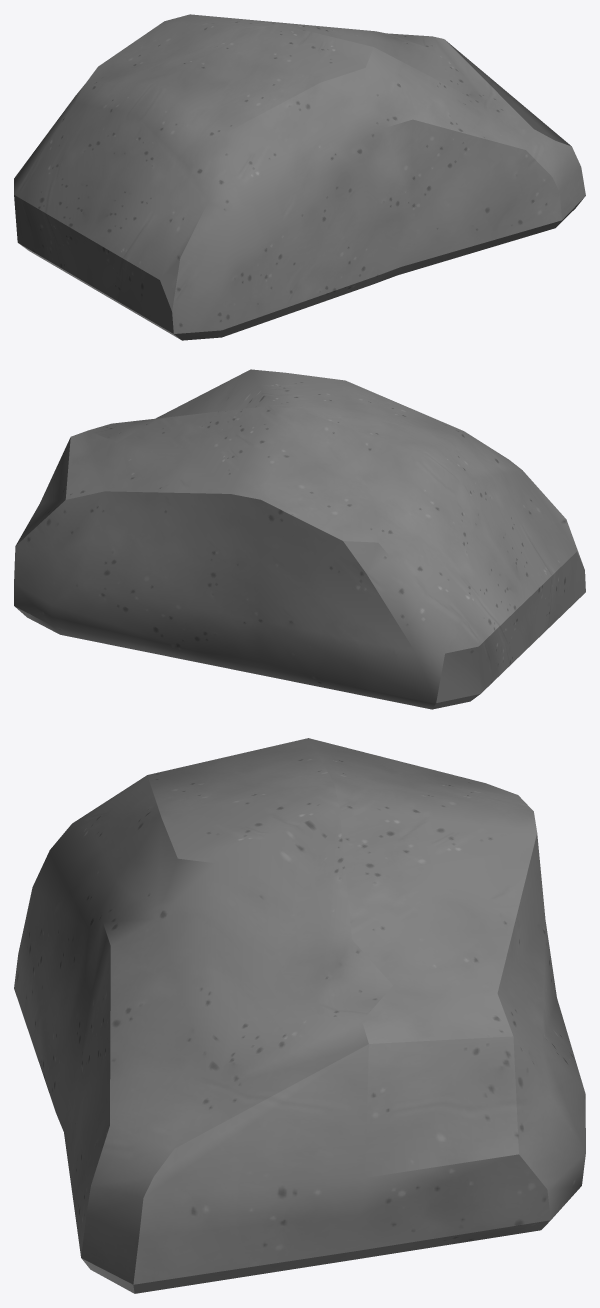
The model's file is Gray_Rock_04.fbx.
3 views of the same model, one above another, from view 1: azimuth 30°, elevation 25°; view 2: azimuth 150°, elevation 25°; view 3: azimuth 270°, elevation 25° (orthographic). The views are drawn at different scales.
Visible parts, largest first — view 1: Gray_Rock_04; view 2: Gray_Rock_04; view 3: Gray_Rock_04.
Boxes of the visible parts, x1,y1,x2,y2 form: Gray_Rock_04: (14, 14, 585, 340); Gray_Rock_04: (14, 369, 585, 709); Gray_Rock_04: (14, 738, 585, 1293).
Size of the model in its own units: 1.32 by 0.8744 by 0.5472.
